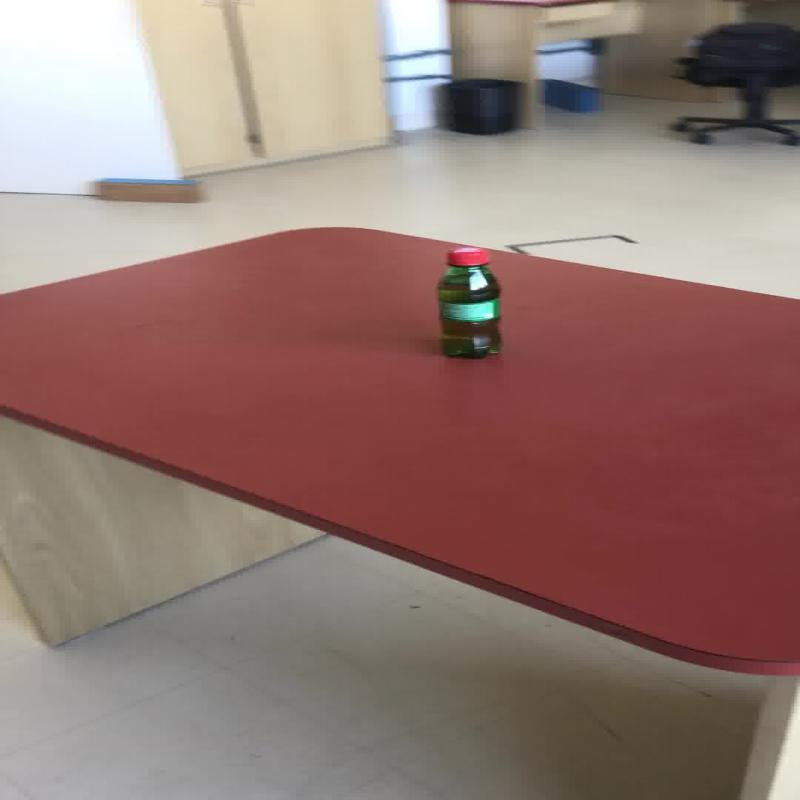guarana: (434, 245, 502, 358), (434, 244, 500, 324)
